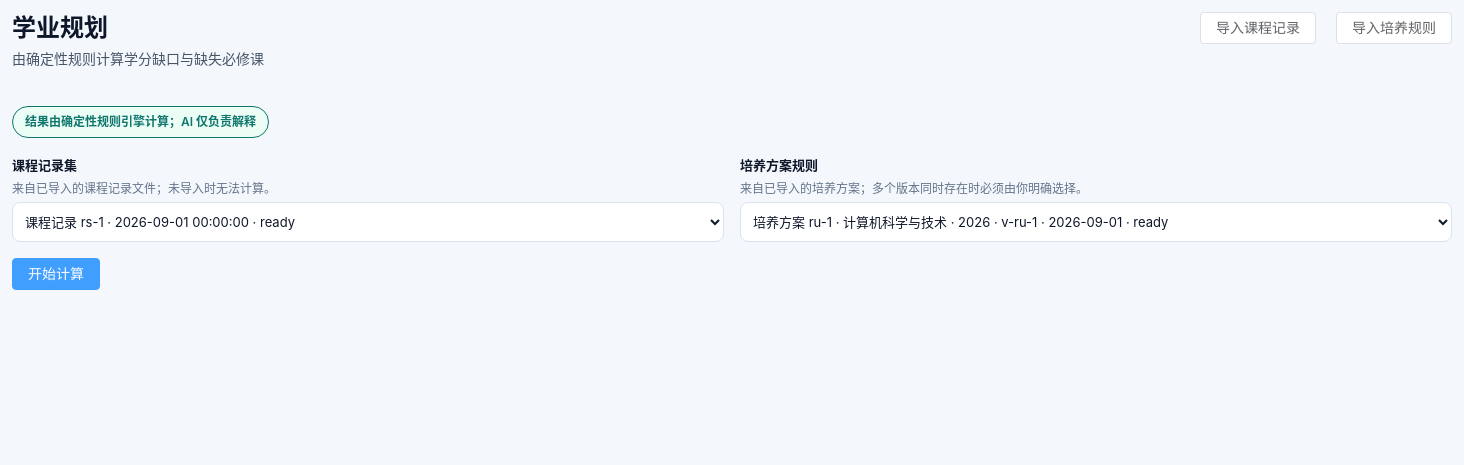
Test: PlanningView calculation › leaves no result behind when the first calculation fails
Click the button "开始计算" at (56, 274), box [12, 258, 100, 290]
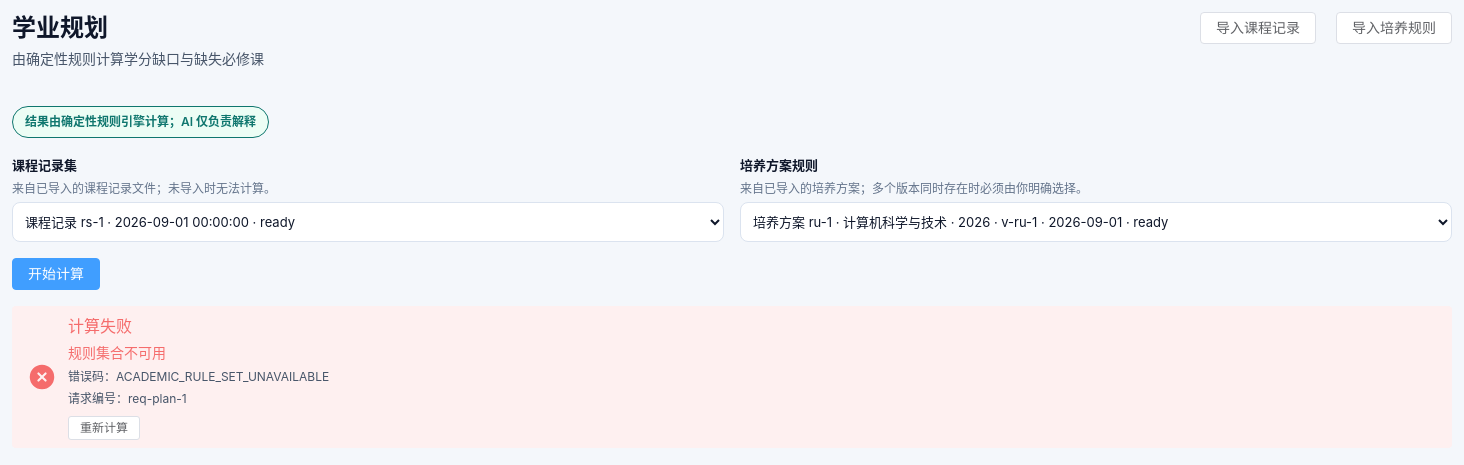
expect the element with class "ep-planning__calc-error" shows "ACADEMIC_RULE_SET_UNAVAILABLE": met, box [68, 369, 329, 384]
expect the element with class "ep-planning__calc-error" shows "请求编号：req-plan-1": met, box [68, 391, 187, 406]
expect the button "重新计算" is shown: met, box [68, 416, 140, 440]
